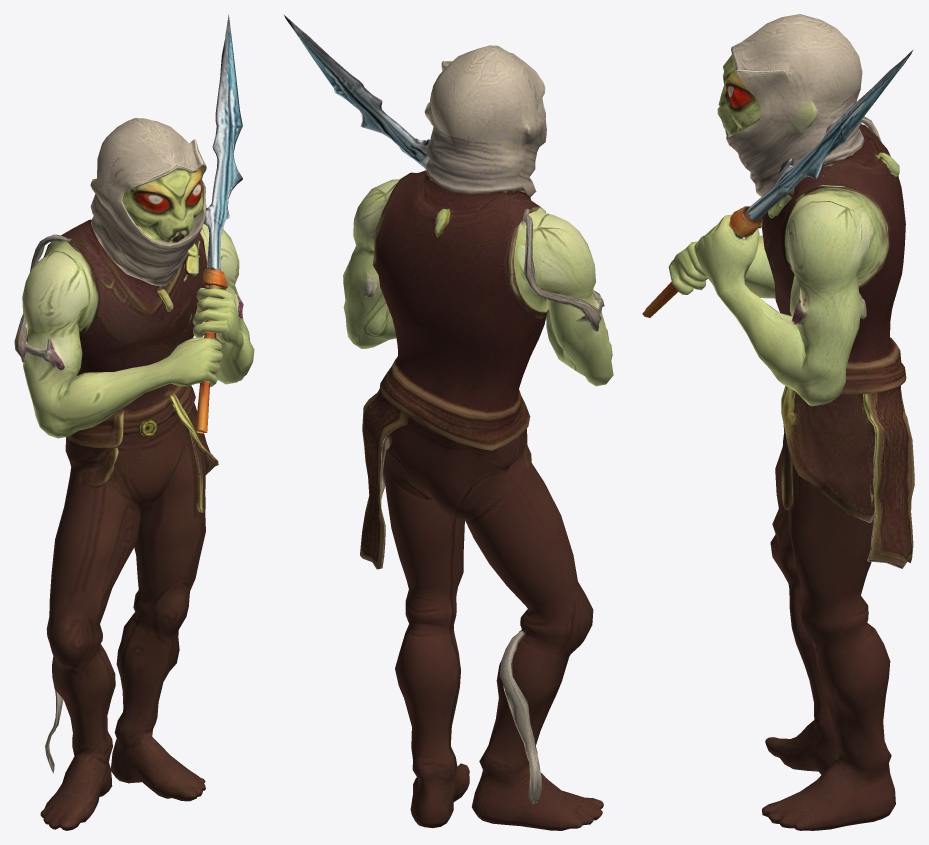
Rendered from fante.glb.
3 renders of one model, left to right at view 1: azimuth 30°, elevation 25°; view 2: azimuth 150°, elevation 25°; view 3: azimuth 270°, elevation 25°, orthographic. The views are drawn at different scales.
Bounding box in the file's own units: 0.3447 × 0.9517 × 0.2822.
Materials: 1 (1 with a texture image).
